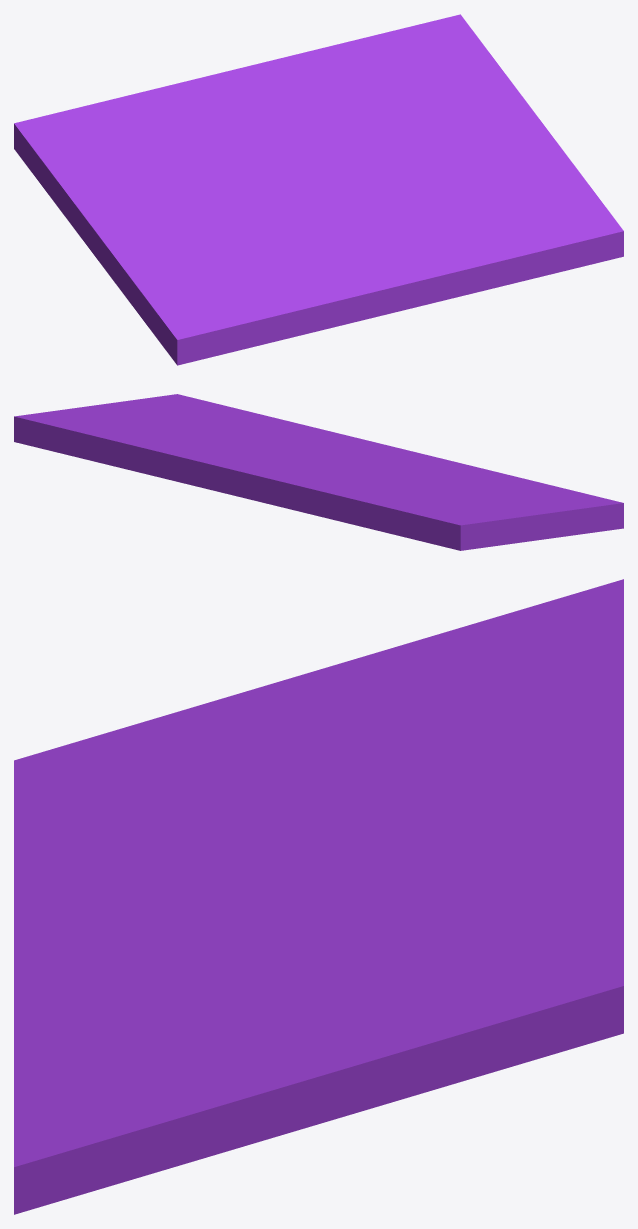
Rendered from Window_140_chunks.fbx.
3 views of the same model, one above another, from view 1: azimuth 30°, elevation 25°; view 2: azimuth 150°, elevation 25°; view 3: azimuth 270°, elevation 25° (orthographic). The views are drawn at different scales.
Parts seen in each view (by area): view 1: Window_140_2, Window_140_3, Window_140_0, Window_140_1; view 2: Window_140_0, Window_140_3, Window_140_2, Window_140_1; view 3: Window_140_3, Window_140_0, Window_140_2, Window_140_1.
Boxes of the visible parts, x1=… form: Window_140_2: x1=117, y1=179, x2=505, y2=365; Window_140_3: x1=264, y1=14, x2=577, y2=196; Window_140_0: x1=14, y1=62, x2=311, y2=285; Window_140_1: x1=376, y1=170, x2=623, y2=290; Window_140_0: x1=196, y1=461, x2=564, y2=550; Window_140_3: x1=14, y1=400, x2=326, y2=486; Window_140_2: x1=295, y1=423, x2=623, y2=536; Window_140_1: x1=132, y1=394, x2=303, y2=447; Window_140_3: x1=184, y1=806, x2=623, y2=1124; Window_140_0: x1=239, y1=579, x2=623, y2=866; Window_140_2: x1=14, y1=693, x2=317, y2=1059; Window_140_1: x1=14, y1=929, x2=317, y2=1214.
Bounding box in the file's own units: 1838 × 482 × 1165.
